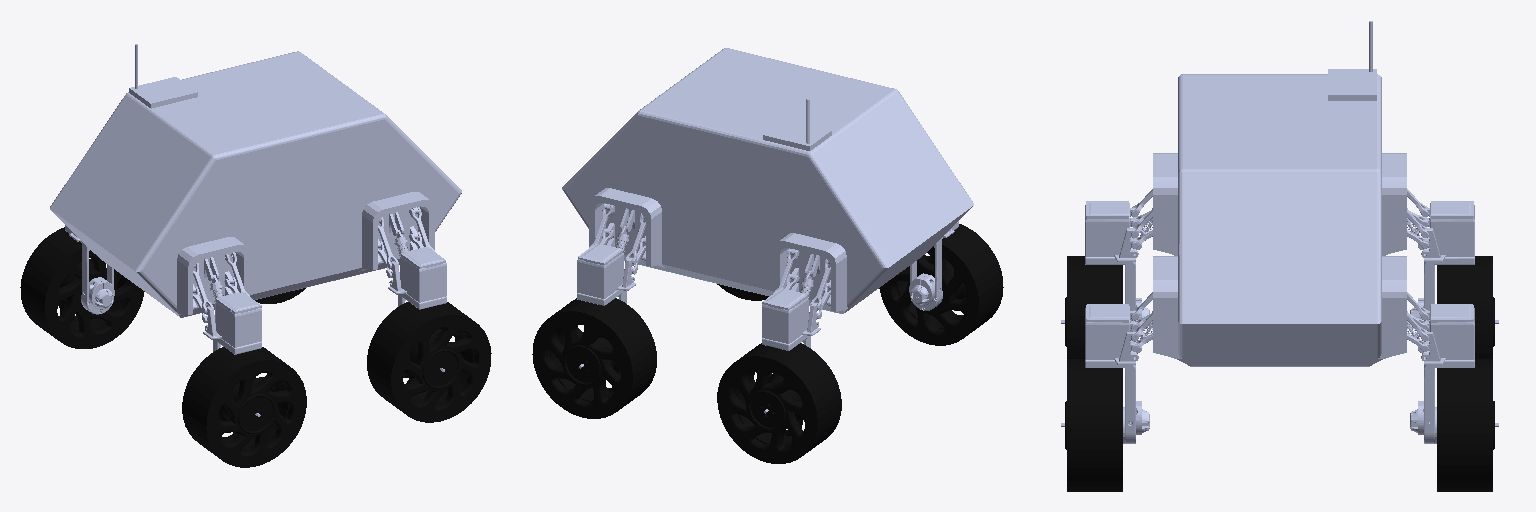
URDF robot description (herc_robot_description):
<?xml version="1.0" encoding="utf-8"?>
<!-- This URDF was automatically created by SolidWorks to URDF Exporter! Originally created by Stephen Brawner (brawner@gmail.com) 
     Commit Version: 1.6.0-4-g7f85cfe  Build Version: 1.6.7995.38578
     For more information, please see http://wiki.ros.org/sw_urdf_exporter -->
<robot
  name="herc_robot_description">
  <link
    name="base_link">
    <inertial>
      <origin
        xyz="-0.000174933646793551 0.000164652643341423 0.153516023470877"
        rpy="0 0 0" />
      <mass
        value="120.7369667544096" />
      <inertia
        ixx="1.05580902720251"
        ixy="0.00137513030414551"
        ixz="0.0019454004887445"
        iyy="2.17399797565162"
        iyz="-0.00173307384721383"
        izz="2.29270926553166" />
    </inertial>
    <visual>
      <origin
        xyz="0 0 0"
        rpy="0 0 0" />
      <geometry>
        <mesh
          filename="package://herc_robot_description/meshes/base_link.STL" />
      </geometry>
      <material
        name="">
        <color
          rgba="0.792156862745098 0.819607843137255 0.933333333333333 1" />
      </material>
    </visual>
    <collision>
      <origin
        xyz="0 0 0"
        rpy="0 0 0" />
      <geometry>
        <mesh
          filename="package://herc_robot_description/meshes/base_link.STL" />
      </geometry>
    </collision>
  </link>
  <link
    name="link_st1l">
    <inertial>
      <origin
        xyz="0.0267659398830066 0.0575560495831713 -7.55299664800813E-06"
        rpy="0 0 0" />
      <mass
        value="0.355351171840791" />
      <inertia
        ixx="0.000977148510617321"
        ixy="-2.25153880169421E-05"
        ixz="1.36428651613183E-07"
        iyy="0.000375116458384183"
        iyz="-6.08477675347618E-08"
        izz="0.00117239052625379" />
    </inertial>
    <visual>
      <origin
        xyz="0 0 0"
        rpy="0 0 0" />
      <geometry>
        <mesh
          filename="package://herc_robot_description/meshes/link_st1l.STL" />
      </geometry>
      <material
        name="">
        <color
          rgba="0.792156862745098 0.819607843137255 0.933333333333333 1" />
      </material>
    </visual>
    <collision>
      <origin
        xyz="0 0 0"
        rpy="0 0 0" />
      <geometry>
        <mesh
          filename="package://herc_robot_description/meshes/link_st1l.STL" />
      </geometry>
    </collision>
  </link>
  <joint
    name="joint_st1l"
    type="revolute">
    <origin
      xyz="0.1975 0.2993 -0.15451"
      rpy="1.5708 0 -1.5708" />
    <parent
      link="base_link" />
    <child
      link="link_st1l" />
    <axis
      xyz="0 1 0" />
    <limit
      lower="-1.50"
      upper="1.50"
      effort="160.22"
      velocity="2.5" />
    <dynamics damping="0.1" friction="0.01"/>
  </joint>
  <link
    name="link_wh1l">
    <inertial>
      <origin
        xyz="-0.00100917477978646 -2.01893384029206E-05 -7.53597005912487E-05"
        rpy="0 0 0" />
      <mass
        value="100.03045357185604" />
      <inertia
        ixx="0.0144258780203256"
        ixy="9.78786475777846E-11"
        ixz="1.6185157049032E-10"
        iyy="0.00879443569990284"
        iyz="6.00219310017969E-12"
        izz="0.00879443570730398" />
    </inertial>
    <visual>
      <origin
        xyz="0 0 0"
        rpy="0 0 0" />
      <geometry>
        <mesh
          filename="package://herc_robot_description/meshes/link_wh1l.STL" />
      </geometry>
      <material
        name="">
        <color
          rgba="0.1 0.1 0.1 1" />
      </material>
    </visual>
    <collision>
      <origin
        xyz="0 0 0"
        rpy="0 0 0" />
      <geometry>
        <mesh
          filename="package://herc_robot_description/meshes/link_wh1l.STL" />
      </geometry>
    </collision>
  </link>
  <joint
    name="joint_wh1l"
    type="continuous">
    <origin
      xyz="0 0.03 0"
      rpy="1.0131 0 0" />
    <parent
      link="link_st1l" />
    <child
      link="link_wh1l" />
    <axis
      xyz="-1 0 0" />
  </joint>
  <link
    name="link_st2l">
    <inertial>
      <origin
        xyz="0.0267659382781991 0.0575560500659763 -7.55294697135644E-06"
        rpy="0 0 0" />
      <mass
        value="0.355351155625479" />
      <inertia
        ixx="0.000977148503797893"
        ixy="-2.25153961358251E-05"
        ixz="1.36427972195104E-07"
        iyy="0.000375116435197316"
        iyz="-6.08472980503841E-08"
        izz="0.00117239049809512" />
    </inertial>
    <visual>
      <origin
        xyz="0 0 0"
        rpy="0 0 0" />
      <geometry>
        <mesh
          filename="package://herc_robot_description/meshes/link_st2l.STL" />
      </geometry>
      <material
        name="">
        <color
          rgba="0.792156862745098 0.819607843137255 0.933333333333333 1" />
      </material>
    </visual>
    <collision>
      <origin
        xyz="0 0 0"
        rpy="0 0 0" />
      <geometry>
        <mesh
          filename="package://herc_robot_description/meshes/link_st2l.STL" />
      </geometry>
    </collision>
  </link>
  <joint
    name="joint_st2l"
    type="revolute">
    <origin
      xyz="-0.1975 0.2993 -0.15451"
      rpy="1.5708 0 -1.5708" />
    <parent
      link="base_link" />
    <child
      link="link_st2l" />
    <axis
      xyz="0 1 0" />
    <limit
      lower="-1.50"
      upper="1.50"
      effort="160.22"
      velocity="2.5" />
    <dynamics damping="0.1" friction="0.01"/>
  </joint>
  <link
    name="link_wh2l">
    <inertial>
      <origin
        xyz="-0.00100917476980963 -2.01929059113343E-05 -7.53672546446316E-05"
        rpy="0 0 0" />
      <mass
        value="100.0304535750242" />
      <inertia
        ixx="0.0144258780242239"
        ixy="1.04096085729217E-10"
        ixz="-1.74758329777071E-10"
        iyy="0.00879443570448185"
        iyz="-5.49449982040207E-12"
        izz="0.00879443570269662" />
    </inertial>
    <visual>
      <origin
        xyz="0 0 0"
        rpy="0 0 0" />
      <geometry>
        <mesh
          filename="package://herc_robot_description/meshes/link_wh2l.STL" />
      </geometry>
      <material
        name="">
        <color
          rgba="0.1 0.1 0.1 1" />
      </material>
    </visual>
    <collision>
      <origin
        xyz="0 0 0"
        rpy="0 0 0" />
      <geometry>
        <mesh
          filename="package://herc_robot_description/meshes/link_wh2l.STL" />
      </geometry>
    </collision>
  </link>
  <joint
    name="joint_wh2l"
    type="continuous">
    <origin
      xyz="0 0.03 0"
      rpy="0.5024 0 0" />
    <parent
      link="link_st2l" />
    <child
      link="link_wh2l" />
    <axis
      xyz="-1 0 0" />
  </joint>
  <link
    name="link_st1r">
    <inertial>
      <origin
        xyz="0.0267659399219559 0.0575560495851625 -7.55298418853023E-06"
        rpy="0 0 0" />
      <mass
        value="0.355351172234343" />
      <inertia
        ixx="0.000977148510684013"
        ixy="-2.25153880145334E-05"
        ixz="1.36428487298398E-07"
        iyy="0.000375116458983201"
        iyz="-6.0847697727267E-08"
        izz="0.00117239052681343" />
    </inertial>
    <visual>
      <origin
        xyz="0 0 0"
        rpy="0 0 0" />
      <geometry>
        <mesh
          filename="package://herc_robot_description/meshes/link_st1r.STL" />
      </geometry>
      <material
        name="">
        <color
          rgba="0.792156862745098 0.819607843137255 0.933333333333333 1" />
      </material>
    </visual>
    <collision>
      <origin
        xyz="0 0 0"
        rpy="0 0 0" />
      <geometry>
        <mesh
          filename="package://herc_robot_description/meshes/link_st1r.STL" />
      </geometry>
    </collision>
  </link>
  <joint
    name="joint_st1r"
    type="revolute">
    <origin
      xyz="0.1975 -0.2993 -0.15451"
      rpy="1.5708 0 1.5708" />
    <parent
      link="base_link" />
    <child
      link="link_st1r" />
    <axis
      xyz="0 1 0" />
    <limit
      lower="-1.50"
      upper="1.50"
      effort="160.22"
      velocity="2.5" />
    <dynamics damping="0.1" friction="0.01"/>
  </joint>
  <link
    name="link_wh1r">
    <inertial>
      <origin
        xyz="-0.0010091747607146 -2.01889572131186E-05 -7.53600202778038E-05"
        rpy="0 0 0" />
      <mass
        value="100.03045357426424" />
      <inertia
        ixx="0.0144258780232549"
        ixy="1.15237064316613E-10"
        ixz="1.55859842261674E-10"
        iyy="0.00879443570150819"
        iyz="9.3189960956308E-12"
        izz="0.00879443570887671" />
    </inertial>
    <visual>
      <origin
        xyz="0 0 0"
        rpy="0 0 0" />
      <geometry>
        <mesh
          filename="package://herc_robot_description/meshes/link_wh1r.STL" />
      </geometry>
      <material
        name="">
        <color
          rgba="0.1 0.1 0.1 1" />
      </material>
    </visual>
    <collision>
      <origin
        xyz="0 0 0"
        rpy="0 0 0" />
      <geometry>
        <mesh
          filename="package://herc_robot_description/meshes/link_wh1r.STL" />
      </geometry>
    </collision>
  </link>
  <joint
    name="joint_wh1r"
    type="continuous">
    <origin
      xyz="0 0.03 0"
      rpy="0.98723 0 0" />
    <parent
      link="link_st1r" />
    <child
      link="link_wh1r" />
    <axis
      xyz="1 0 0" />
  </joint>
  <link
    name="link_st2r">
    <inertial>
      <origin
        xyz="0.0267659383001422 0.0575560500628036 -7.55294261522987E-06"
        rpy="0 0 0" />
      <mass
        value="0.355351155823766" />
      <inertia
        ixx="0.000977148503842048"
        ixy="-2.25153960717195E-05"
        ixz="1.36427913971771E-07"
        iyy="0.000375116435557389"
        iyz="-6.08472665978241E-08"
        izz="0.00117239049846253" />
    </inertial>
    <visual>
      <origin
        xyz="0 0 0"
        rpy="0 0 0" />
      <geometry>
        <mesh
          filename="package://herc_robot_description/meshes/link_st2r.STL" />
      </geometry>
      <material
        name="">
        <color
          rgba="0.792156862745098 0.819607843137255 0.933333333333333 1" />
      </material>
    </visual>
    <collision>
      <origin
        xyz="0 0 0"
        rpy="0 0 0" />
      <geometry>
        <mesh
          filename="package://herc_robot_description/meshes/link_st2r.STL" />
      </geometry>
    </collision>
  </link>
  <joint
    name="joint_st2r"
    type="revolute">
    <origin
      xyz="-0.1975 -0.2993 -0.15451"
      rpy="1.5708 0 1.5708" />
    <parent
      link="base_link" />
    <child
      link="link_st2r" />
    <axis
      xyz="0 1 0" />
    <limit
      lower="-1.50"
      upper="1.50"
      effort="160.22"
      velocity="2.5" />
    <dynamics damping="0.1" friction="0.01"/>
  </joint>
  <link
    name="link_wh2r">
    <inertial>
      <origin
        xyz="-0.0010091745975932 -2.01936239987294E-05 -7.53573527121354E-05"
        rpy="0 0 0" />
      <mass
        value="100.03045358492489" />
      <inertia
        ixx="0.014425878035554"
        ixy="-9.41220447530324E-11"
        ixz="1.89604194724541E-10"
        iyy="0.00879443572514206"
        iyz="-1.13800312489393E-11"
        izz="0.00879443572108085" />
    </inertial>
    <visual>
      <origin
        xyz="0 0 0"
        rpy="0 0 0" />
      <geometry>
        <mesh
          filename="package://herc_robot_description/meshes/link_wh2r.STL" />
      </geometry>
      <material
        name="">
        <color
          rgba="0.1 0.1 0.1 1" />
      </material>
    </visual>
    <collision>
      <origin
        xyz="0 0 0"
        rpy="0 0 0" />
      <geometry>
        <mesh
          filename="package://herc_robot_description/meshes/link_wh2r.STL" />
      </geometry>
    </collision>
  </link>
  <joint
    name="joint_wh2r"
    type="continuous">
    <origin
      xyz="0 0.03 0"
      rpy="2.839 0 0" />
    <parent
      link="link_st2r" />
    <child
      link="link_wh2r" />
    <axis
      xyz="1 0 0" />
  </joint>

  <gazebo>
    <plugin filename="libignition-gazebo-diff-drive-system.so" name="ignition::gazebo::systems::DiffDrive">
      <left_joint>joint_wh1l</left_joint>
      <left_joint>joint_wh2l</left_joint>
      
      <right_joint>joint_wh1r</right_joint>
      <right_joint>joint_wh2r</right_joint>
      
      <!--<right_joint_reversed>true</right_joint_reversed>-->
      <wheel_separation>5.986</wheel_separation>   <!-- distancia entre ruedas 100mm -->
      <wheel_radius>1.075</wheel_radius>            <!-- radio de las ruedas -->
      <odom_publish_frequency>1</odom_publish_frequency>
      <odom_topic>odom</odom_topic>
      <topic>cmd_vel</topic>
    </plugin>

    <plugin filename="ignition-gazebo-joint-state-publisher-system" name="ignition::gazebo::systems::JointStatePublisher">
      <topic>/joint_states</topic>
    </plugin>
    
    <plugin filename="libignition-gazebo-joint-position-controller-system.so" name="ignition::gazebo::systems::JointPositionController">
      <joint_name>joint_st1l</joint_name>
      <topic>/joint_st1l/cmd_pos</topic>
      <p_gain>109.0</p_gain>
      <i_gain>3.0</i_gain>
      <d_gain>43.5</d_gain>
    </plugin>


    <plugin filename="libignition-gazebo-joint-position-controller-system.so" name="ignition::gazebo::systems::JointPositionController">
      <joint_name>joint_st2l</joint_name>
      <topic>/joint_st2l/cmd_pos</topic>
      <p_gain>109.0</p_gain>
      <i_gain>3.0</i_gain>
      <d_gain>43.5</d_gain>
    </plugin>

    <plugin filename="libignition-gazebo-joint-position-controller-system.so" name="ignition::gazebo::systems::JointPositionController">
      <joint_name>joint_st1r</joint_name>
      <topic>/joint_st1r/cmd_pos</topic>
      <p_gain>109.0</p_gain>
      <i_gain>3.0</i_gain>
      <d_gain>43.5</d_gain>
    </plugin>

    <plugin filename="libignition-gazebo-joint-position-controller-system.so" name="ignition::gazebo::systems::JointPositionController">
      <joint_name>joint_st2r</joint_name>
      <topic>/joint_st2r/cmd_pos</topic>
      <p_gain>109.0</p_gain>
      <i_gain>3.0</i_gain>
      <d_gain>43.5</d_gain>
    </plugin>


  </gazebo>
</robot>

--- What the picture shows (computed from the rendered views, not written in the file) ---
3 views of the same robot in one strip: view 1: azimuth 30°, elevation 25°; view 2: azimuth 150°, elevation 25°; view 3: azimuth 270°, elevation 25° (orthographic).
Robot: herc_robot_description — 9 links, 8 joints (4 revolute, 4 continuous); root link base_link; default pose: every joint at zero.
Links seen in each view (by area): view 1: base_link, link_wh1r, link_wh2r, link_wh2l, link_st2l; view 2: base_link, link_wh2l, link_wh1l, link_wh2r, link_st2r; view 3: base_link, link_wh1l, link_wh1r, link_wh2l, link_wh2r, link_st1l, link_st1r, link_st2l, link_st2r.
Link boxes in pixels (x1,y1,x2,y2): base_link: (50,44,461,347); link_wh1r: (367,302,491,422); link_wh2r: (182,347,306,467); link_wh2l: (20,227,144,348); link_st2l: (65,225,114,314); base_link: (562,48,973,343); link_wh2l: (717,343,841,463); link_wh1l: (532,298,656,418); link_wh2r: (879,224,1003,345); link_st2r: (909,221,958,310); base_link: (1085,21,1474,366); link_wh1l: (1437,359,1494,491); link_wh1r: (1065,359,1122,491); link_wh2l: (1437,256,1494,358); link_wh2r: (1065,256,1122,358); link_st1l: (1410,360,1498,443); link_st1r: (1061,360,1149,443); link_st2l: (1410,257,1498,331); link_st2r: (1061,257,1149,331).
Size in the robot's own frame: 0.7 by 0.7086 by 0.6569 metres.
9 mesh visuals loaded from 9 distinct referenced files (9 binary STL).
